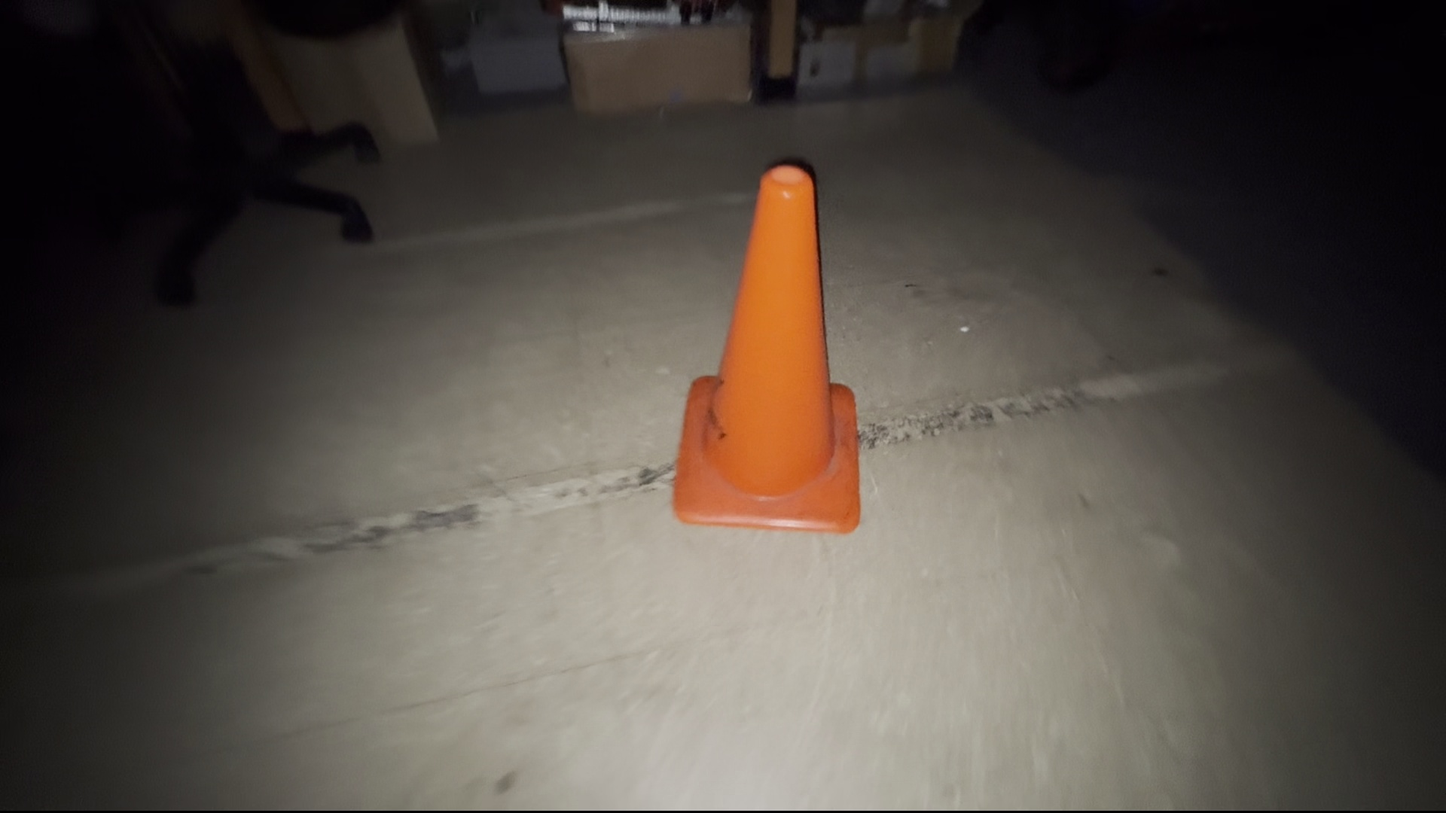traffic_cone: (672, 161, 862, 534)
